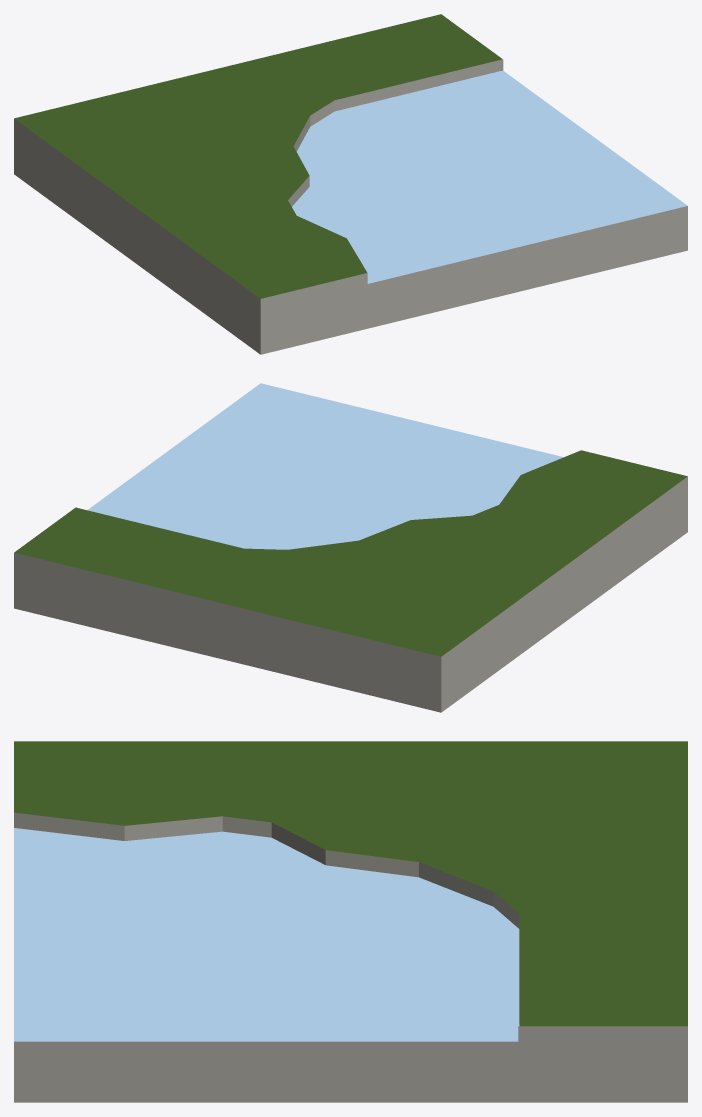
Rendered from Terrain_Tile_Grass_Rock_Water_Bank_Corner_02.fbx.
3 renders of one model, top to bottom at view 1: azimuth 30°, elevation 25°; view 2: azimuth 150°, elevation 25°; view 3: azimuth 270°, elevation 25°, orthographic. The views are drawn at different scales.
Parts seen in each view (by area): view 1: Terrain_Tile_Grass_Rock_Water_Bank_Corner_02; view 2: Terrain_Tile_Grass_Rock_Water_Bank_Corner_02; view 3: Terrain_Tile_Grass_Rock_Water_Bank_Corner_02.
Part boxes in pixels (<box>): Terrain_Tile_Grass_Rock_Water_Bank_Corner_02: <box>14,14,687,354</box>; Terrain_Tile_Grass_Rock_Water_Bank_Corner_02: <box>14,383,687,712</box>; Terrain_Tile_Grass_Rock_Water_Bank_Corner_02: <box>14,741,687,1102</box>.
Bounding box in the file's own units: 126 × 15.75 × 126.
